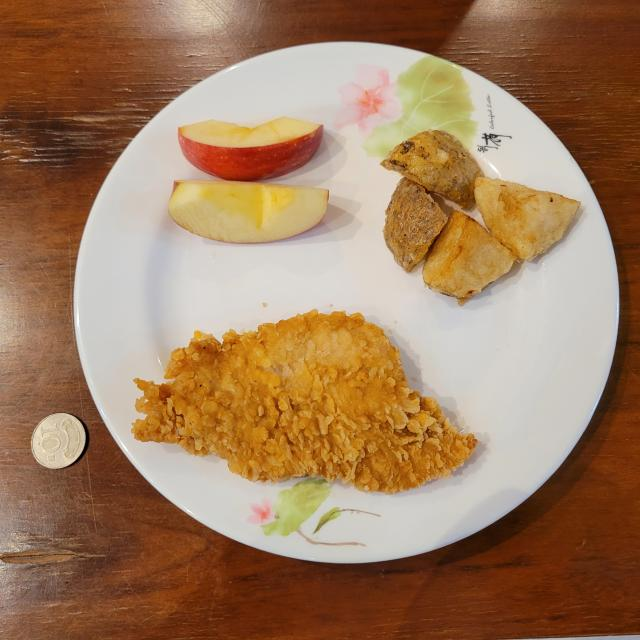apple -sliced-: (169, 116, 329, 242)
coin: (31, 412, 86, 469)
fried chicken cutlet: (132, 310, 476, 494)
fried potato: (381, 130, 580, 305)
